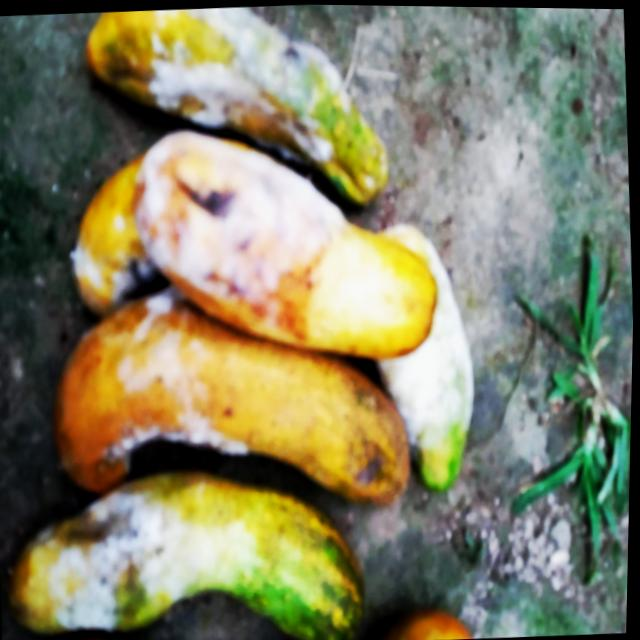Pythium-Fruit-Rot: (64, 123, 356, 312), (144, 2, 358, 167), (96, 278, 258, 475), (373, 217, 484, 450), (43, 473, 193, 637)
